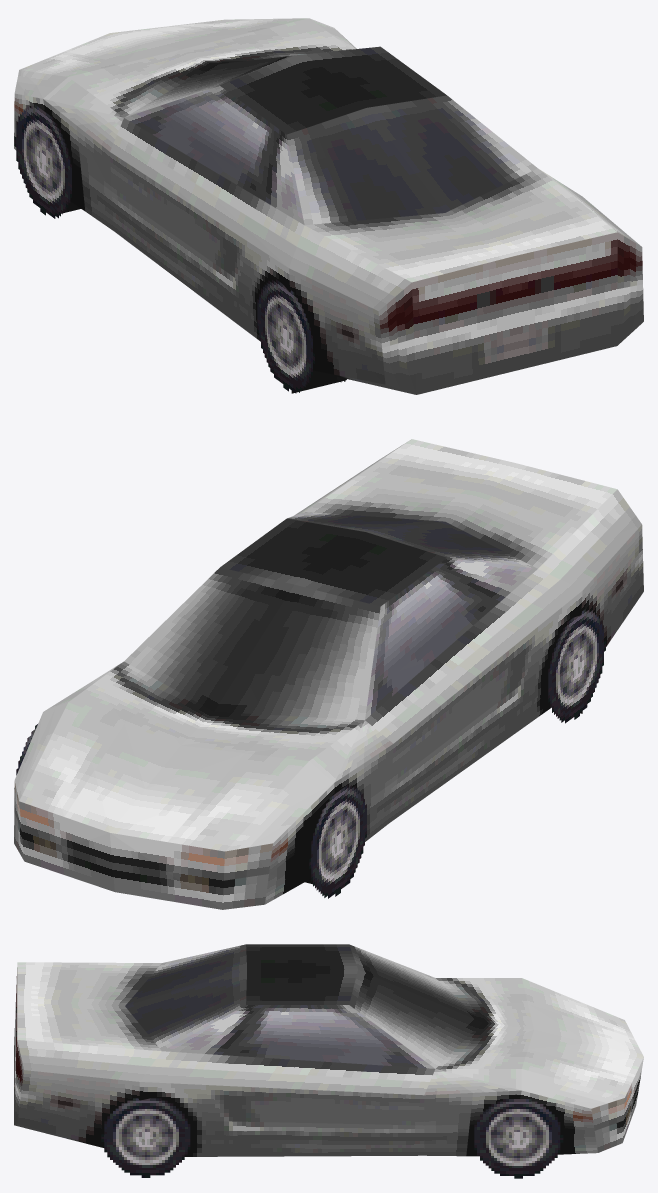
Rendered from car-ansx.glb.
3 renders of one model, top to bottom at view 1: azimuth 30°, elevation 25°; view 2: azimuth 150°, elevation 25°; view 3: azimuth 270°, elevation 25°, orthographic. The views are drawn at different scales.
Parts seen in each view (by area): view 1: car-ansx; view 2: car-ansx; view 3: car-ansx.
Boxes of the visible parts, <box> form: car-ansx: <box>14,18,643,394</box>; car-ansx: <box>14,439,643,909</box>; car-ansx: <box>14,944,643,1178</box>.
Size of the model in its own units: 1.84 by 1.18 by 4.39.
28 materials, 28 textured.
